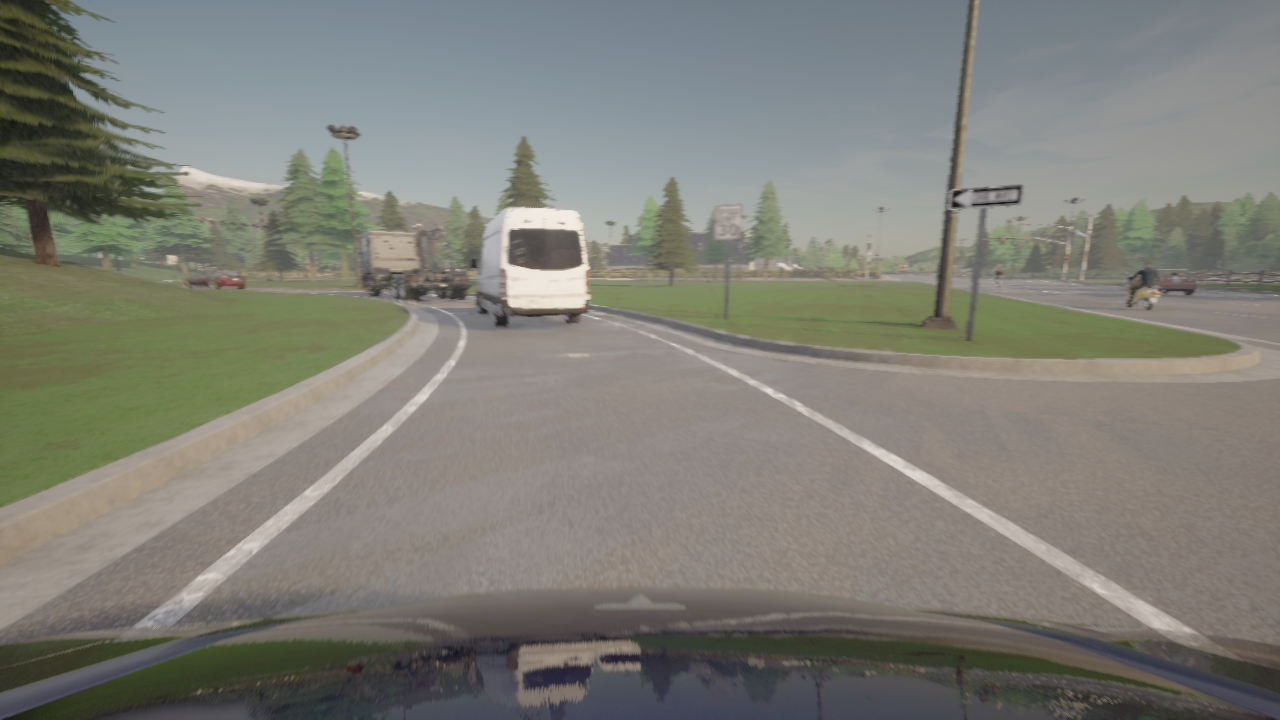cyclist: (0, 588, 1279, 719), (470, 208, 589, 327), (355, 230, 471, 300), (1124, 269, 1196, 295), (1125, 272, 1159, 311), (182, 270, 246, 289), (996, 279, 1000, 290), (905, 273, 906, 274)
